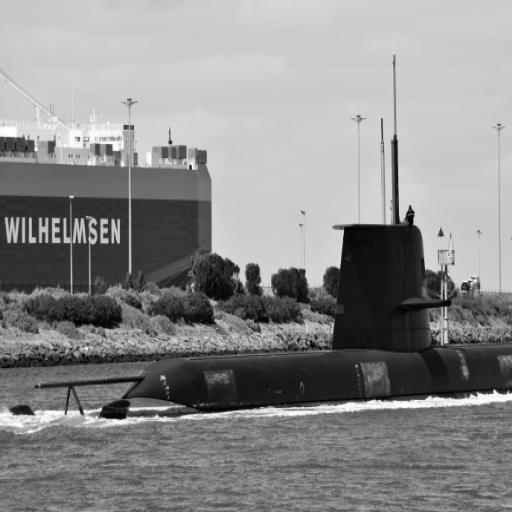submarine: (10, 224, 512, 422)
